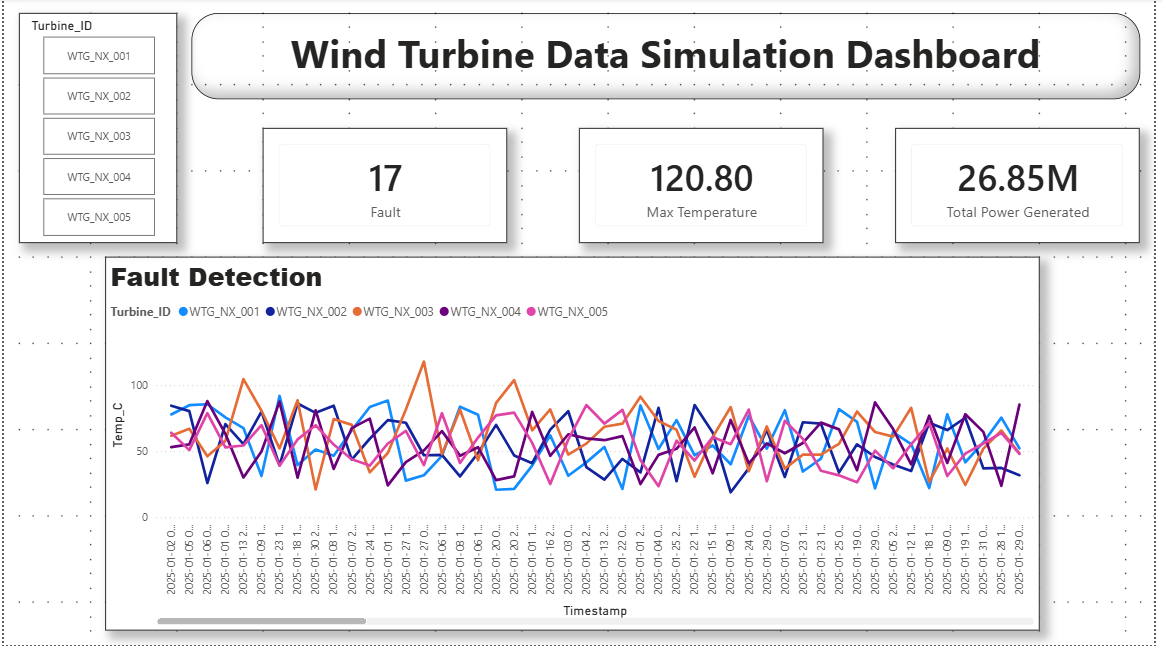

Layout of this report page (visuals, bound fields, positions):
{"tool":"powerbi","page":{"name":"Page 1","canvas":[1280,720],"ordinal":0},"visuals":[{"type":"cardVisual","fields":{"Data":["Sum(public wind_turbine_data.Power_Output_kW)"]},"box":[992,144,272,128],"z":0},{"type":"cardVisual","fields":{"Data":["Max(public wind_turbine_data.IGBT_Phase_Temp_C)"]},"box":[640,144,272,128],"z":1000},{"type":"cardVisual","fields":{"Data":["CountNonNull(public wind_turbine_data.Error_Code)"]},"box":[288,144,272,128],"z":2000},{"type":"lineChart","title":"Fault Detection","fields":{"Category":["public wind_turbine_data.Timestamp"],"Y":["Sum(public wind_turbine_data.IGBT_Phase_Temp_C)"],"Series":["public wind_turbine_data.Turbine_ID"]},"box":[112,288,1040,416],"z":3000},{"type":"slicer","fields":{"Values":["public wind_turbine_data.Turbine_ID"]},"box":[16,16,176,256],"z":4000},{"type":"textbox","box":[208,16,1056,96],"z":4001}]}

Visuals, with their boxes in screenshot pixels (x1, y1, x2, y2), scaled from the page's 1280x720 canvas onto the 1162x646 screenshot:
cardVisual - Sum(public wind_turbine_data.Power_Output_kW): pyautogui.locateOnScreen(901, 129, 1147, 244)
cardVisual - Max(public wind_turbine_data.IGBT_Phase_Temp_C): pyautogui.locateOnScreen(581, 129, 828, 244)
cardVisual - CountNonNull(public wind_turbine_data.Error_Code): pyautogui.locateOnScreen(261, 129, 508, 244)
"Fault Detection" lineChart: pyautogui.locateOnScreen(102, 258, 1046, 632)
slicer - public wind_turbine_data.Turbine_ID: pyautogui.locateOnScreen(15, 14, 174, 244)
textbox: pyautogui.locateOnScreen(189, 14, 1147, 100)
